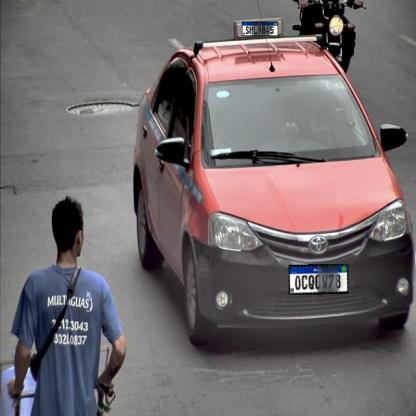PlacaM: (288, 264, 348, 295), (242, 22, 278, 36)
